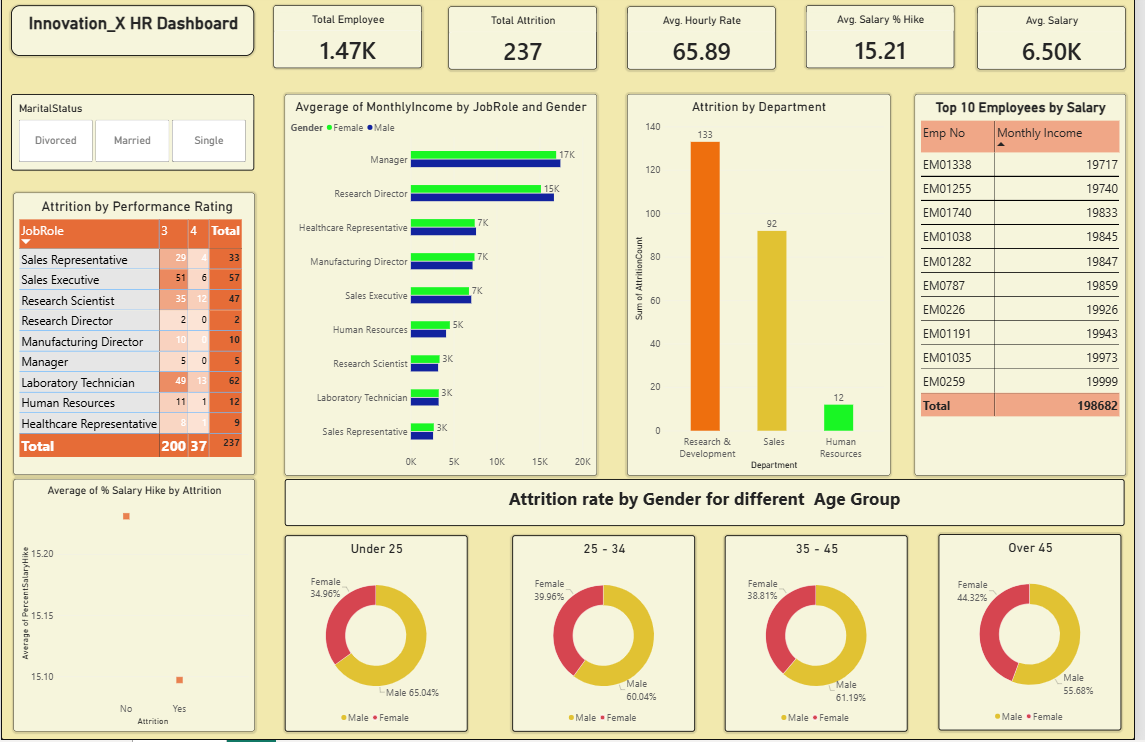

The dashboard page shown, as its layout file describes it:
{"tool":"powerbi","page":{"name":"Page 1","canvas":[3200,2105],"ordinal":0},"visuals":[{"type":"textbox","title":"Innovation_X HR Dashboard","box":[27.9,31.4,686.6,142.9],"z":1000},{"type":"cardVisual","title":"Avg. Hourly Rate","fields":{"Data":["Avg(Employee_Details.HourlyRate)"]},"box":[1767,36.2,418.2,177.7],"z":2000},{"type":"cardVisual","title":"Total Employee","fields":{"Data":["CountNonNull(Employee_Details.EmployeeNumber)"]},"box":[770.2,32.8,418.2,177.7],"z":3000},{"type":"cardVisual","title":"Total Attrition","fields":{"Data":["Sum(Employee_Details.AttritionCount)"]},"box":[1261.7,36.2,418.2,177.7],"z":4000},{"type":"cardVisual","title":"Avg. Salary % Hike","fields":{"Data":["Avg(Employee_Details.PercentSalaryHike)"]},"box":[2272.4,32.8,418.2,177.7],"z":5000},{"type":"cardVisual","title":"Avg. Salary","fields":{"Data":["Avg(Employee_Details.MonthlyIncome)"]},"box":[2753.4,36.2,418.2,177.7],"z":6000},{"type":"advancedSlicerVisual","fields":{"Values":["Employee_Details.MaritalStatus"]},"box":[27.9,282.3,686.6,216.1],"z":7000},{"type":"pivotTable","title":"Attrition by Performance Rating","fields":{"Columns":["Employee_Details.PerformanceRating"],"Rows":["Employee_Details.JobRole"],"Values":["Sum(Employee_Details.AttritionCount)"]},"box":[34.6,561.5,680.8,796.2],"z":8000},{"type":"columnChart","title":"Attrition by Department","fields":{"Y":["Sum(Employee_Details.AttritionCount)"],"Category":["Employee_Details.Department"]},"box":[1767,282.3,742.4,1076.9],"z":9000},{"type":"clusteredBarChart","title":"Avgerage of MonthlyIncome by JobRole and Gender","fields":{"Y":["Avg(Employee_Details.MonthlyIncome)"],"Category":["Employee_Details.JobRole"],"Series":["Employee_Details.Gender"]},"box":[800,280.8,880.8,1076.9],"z":10000},{"type":"tableEx","title":"Top 10 Employees by Salary","fields":{"Values":["Employee_Details.EmployeeNumber","Sum(Employee_Details.MonthlyIncome)"]},"box":[2576.9,280.8,596.2,1076.9],"z":11000},{"type":"scatterChart","title":"Average of % Salary Hike by Attrition","fields":{"Y":["Avg(Employee_Details.PercentSalaryHike)"],"X":["Employee_Details.Attrition"]},"box":[35,1368,681,712],"z":12000},{"type":"textbox","box":[801.6,1369.7,2370,132.4],"z":13000},{"type":"donutChart","title":"25 - 34","fields":{"Category":["Employee_Details.Gender"],"Y":["CountNonNull(Employee_Details.EmployeeNumber)"]},"box":[1442.9,1525.8,515.8,554.2],"z":14000},{"type":"donutChart","title":"Under 25","fields":{"Category":["Employee_Details.Gender"],"Y":["CountNonNull(Employee_Details.EmployeeNumber)"]},"box":[801.6,1525.8,515.8,554.2],"z":15000},{"type":"donutChart","title":"Over 45","fields":{"Category":["Employee_Details.Gender"],"Y":["CountNonNull(Employee_Details.EmployeeNumber)"]},"box":[2647,1525.1,515.8,554.2],"z":16000},{"type":"donutChart","title":"35 - 45","fields":{"Category":["Employee_Details.Gender"],"Y":["CountNonNull(Employee_Details.EmployeeNumber)"]},"box":[2042.4,1525.8,515.8,554.2],"z":17000}]}

Visuals, with their boxes in screenshot pixels (x1, y1, x2, y2), scaled from the page's 3200x2105 canvas onto the 1145x742 screenshot:
"Innovation_X HR Dashboard" textbox: crop(10, 11, 256, 61)
"Avg. Hourly Rate" cardVisual: crop(632, 13, 782, 75)
"Total Employee" cardVisual: crop(276, 12, 425, 74)
"Total Attrition" cardVisual: crop(451, 13, 601, 75)
"Avg. Salary % Hike" cardVisual: crop(813, 12, 963, 74)
"Avg. Salary" cardVisual: crop(985, 13, 1135, 75)
advancedSlicerVisual - Employee_Details.MaritalStatus: crop(10, 100, 256, 176)
"Attrition by Performance Rating" pivotTable: crop(12, 198, 256, 479)
"Attrition by Department" columnChart: crop(632, 100, 898, 479)
"Avgerage of MonthlyIncome by JobRole and Gender" clusteredBarChart: crop(286, 99, 601, 479)
"Top 10 Employees by Salary" tableEx: crop(922, 99, 1135, 479)
"Average of % Salary Hike by Attrition" scatterChart: crop(13, 482, 256, 733)
textbox: crop(287, 483, 1135, 529)
"25 - 34" donutChart: crop(516, 538, 701, 733)
"Under 25" donutChart: crop(287, 538, 471, 733)
"Over 45" donutChart: crop(947, 538, 1132, 733)
"35 - 45" donutChart: crop(731, 538, 915, 733)
